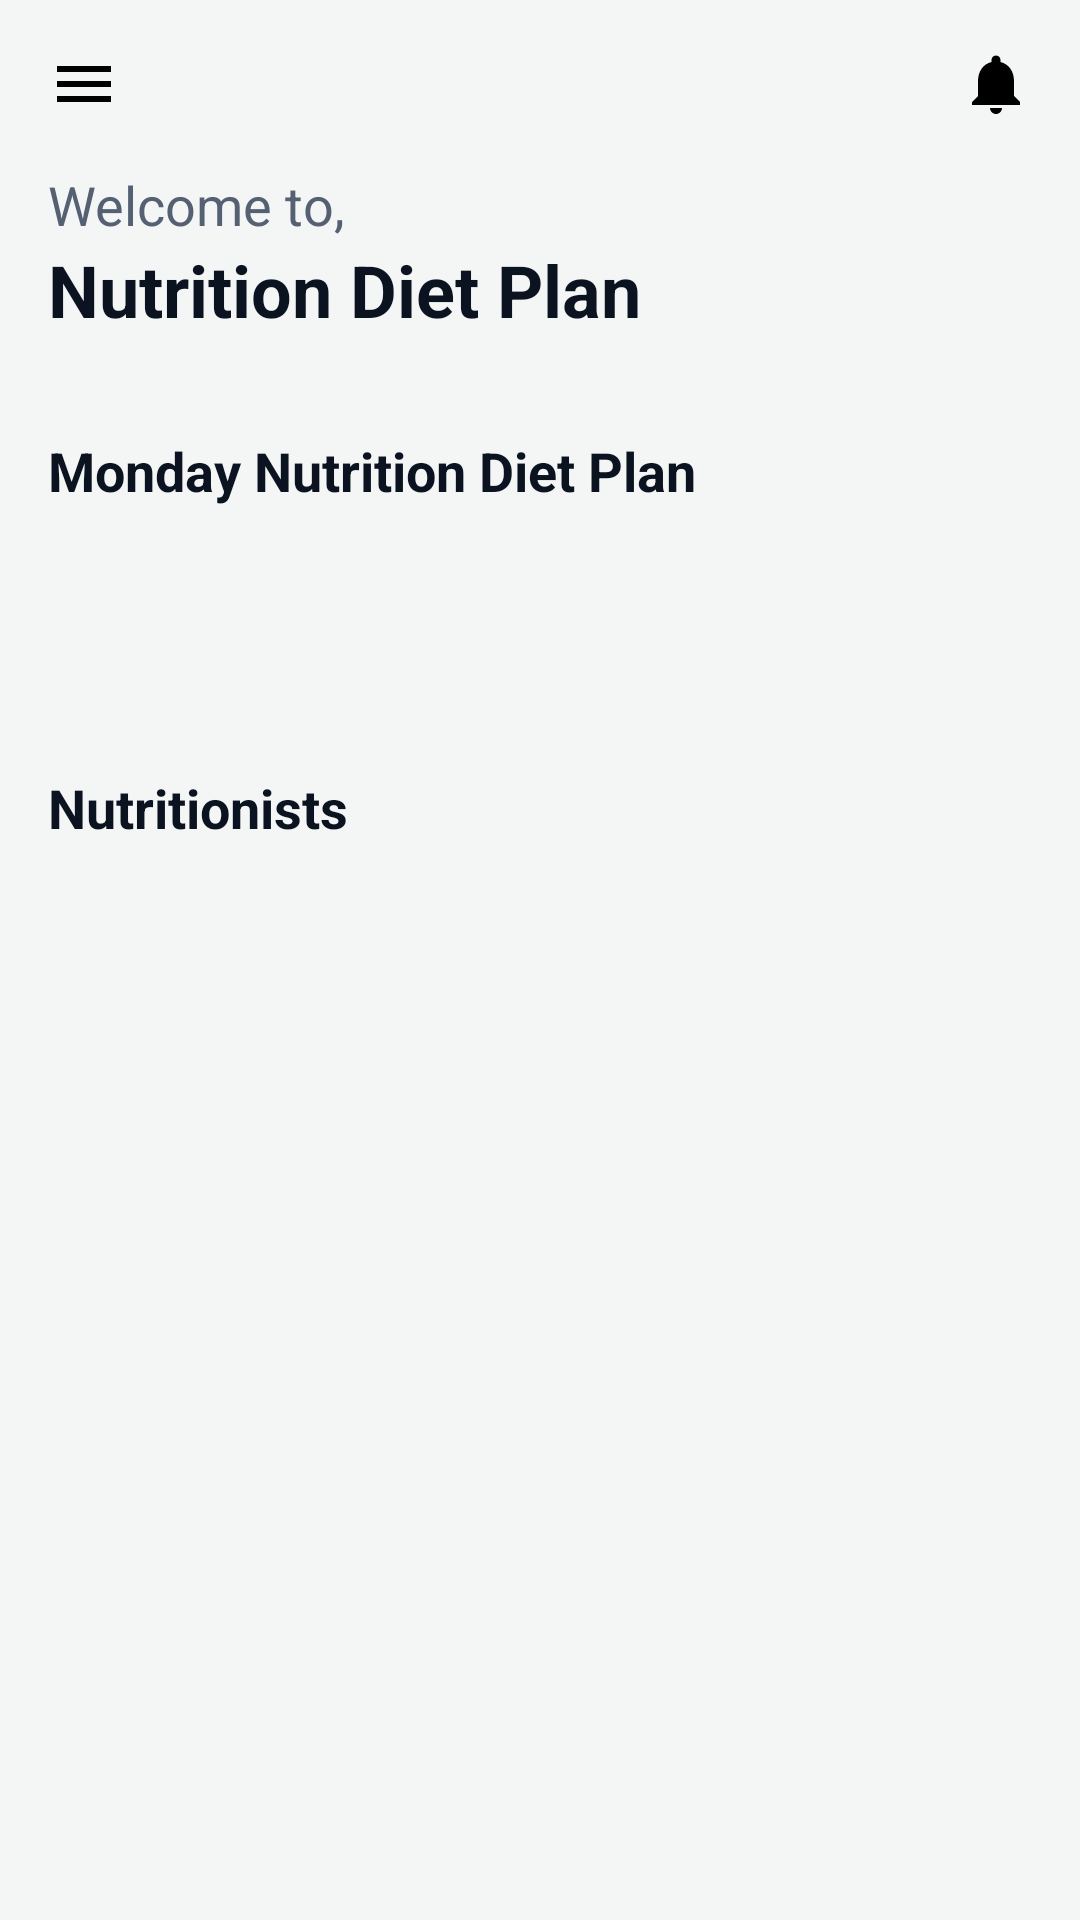

Point at icon controls on the screen. Image size 1080x1920, points as (x,y).
menu: (84,84)
notification: (996,84)
